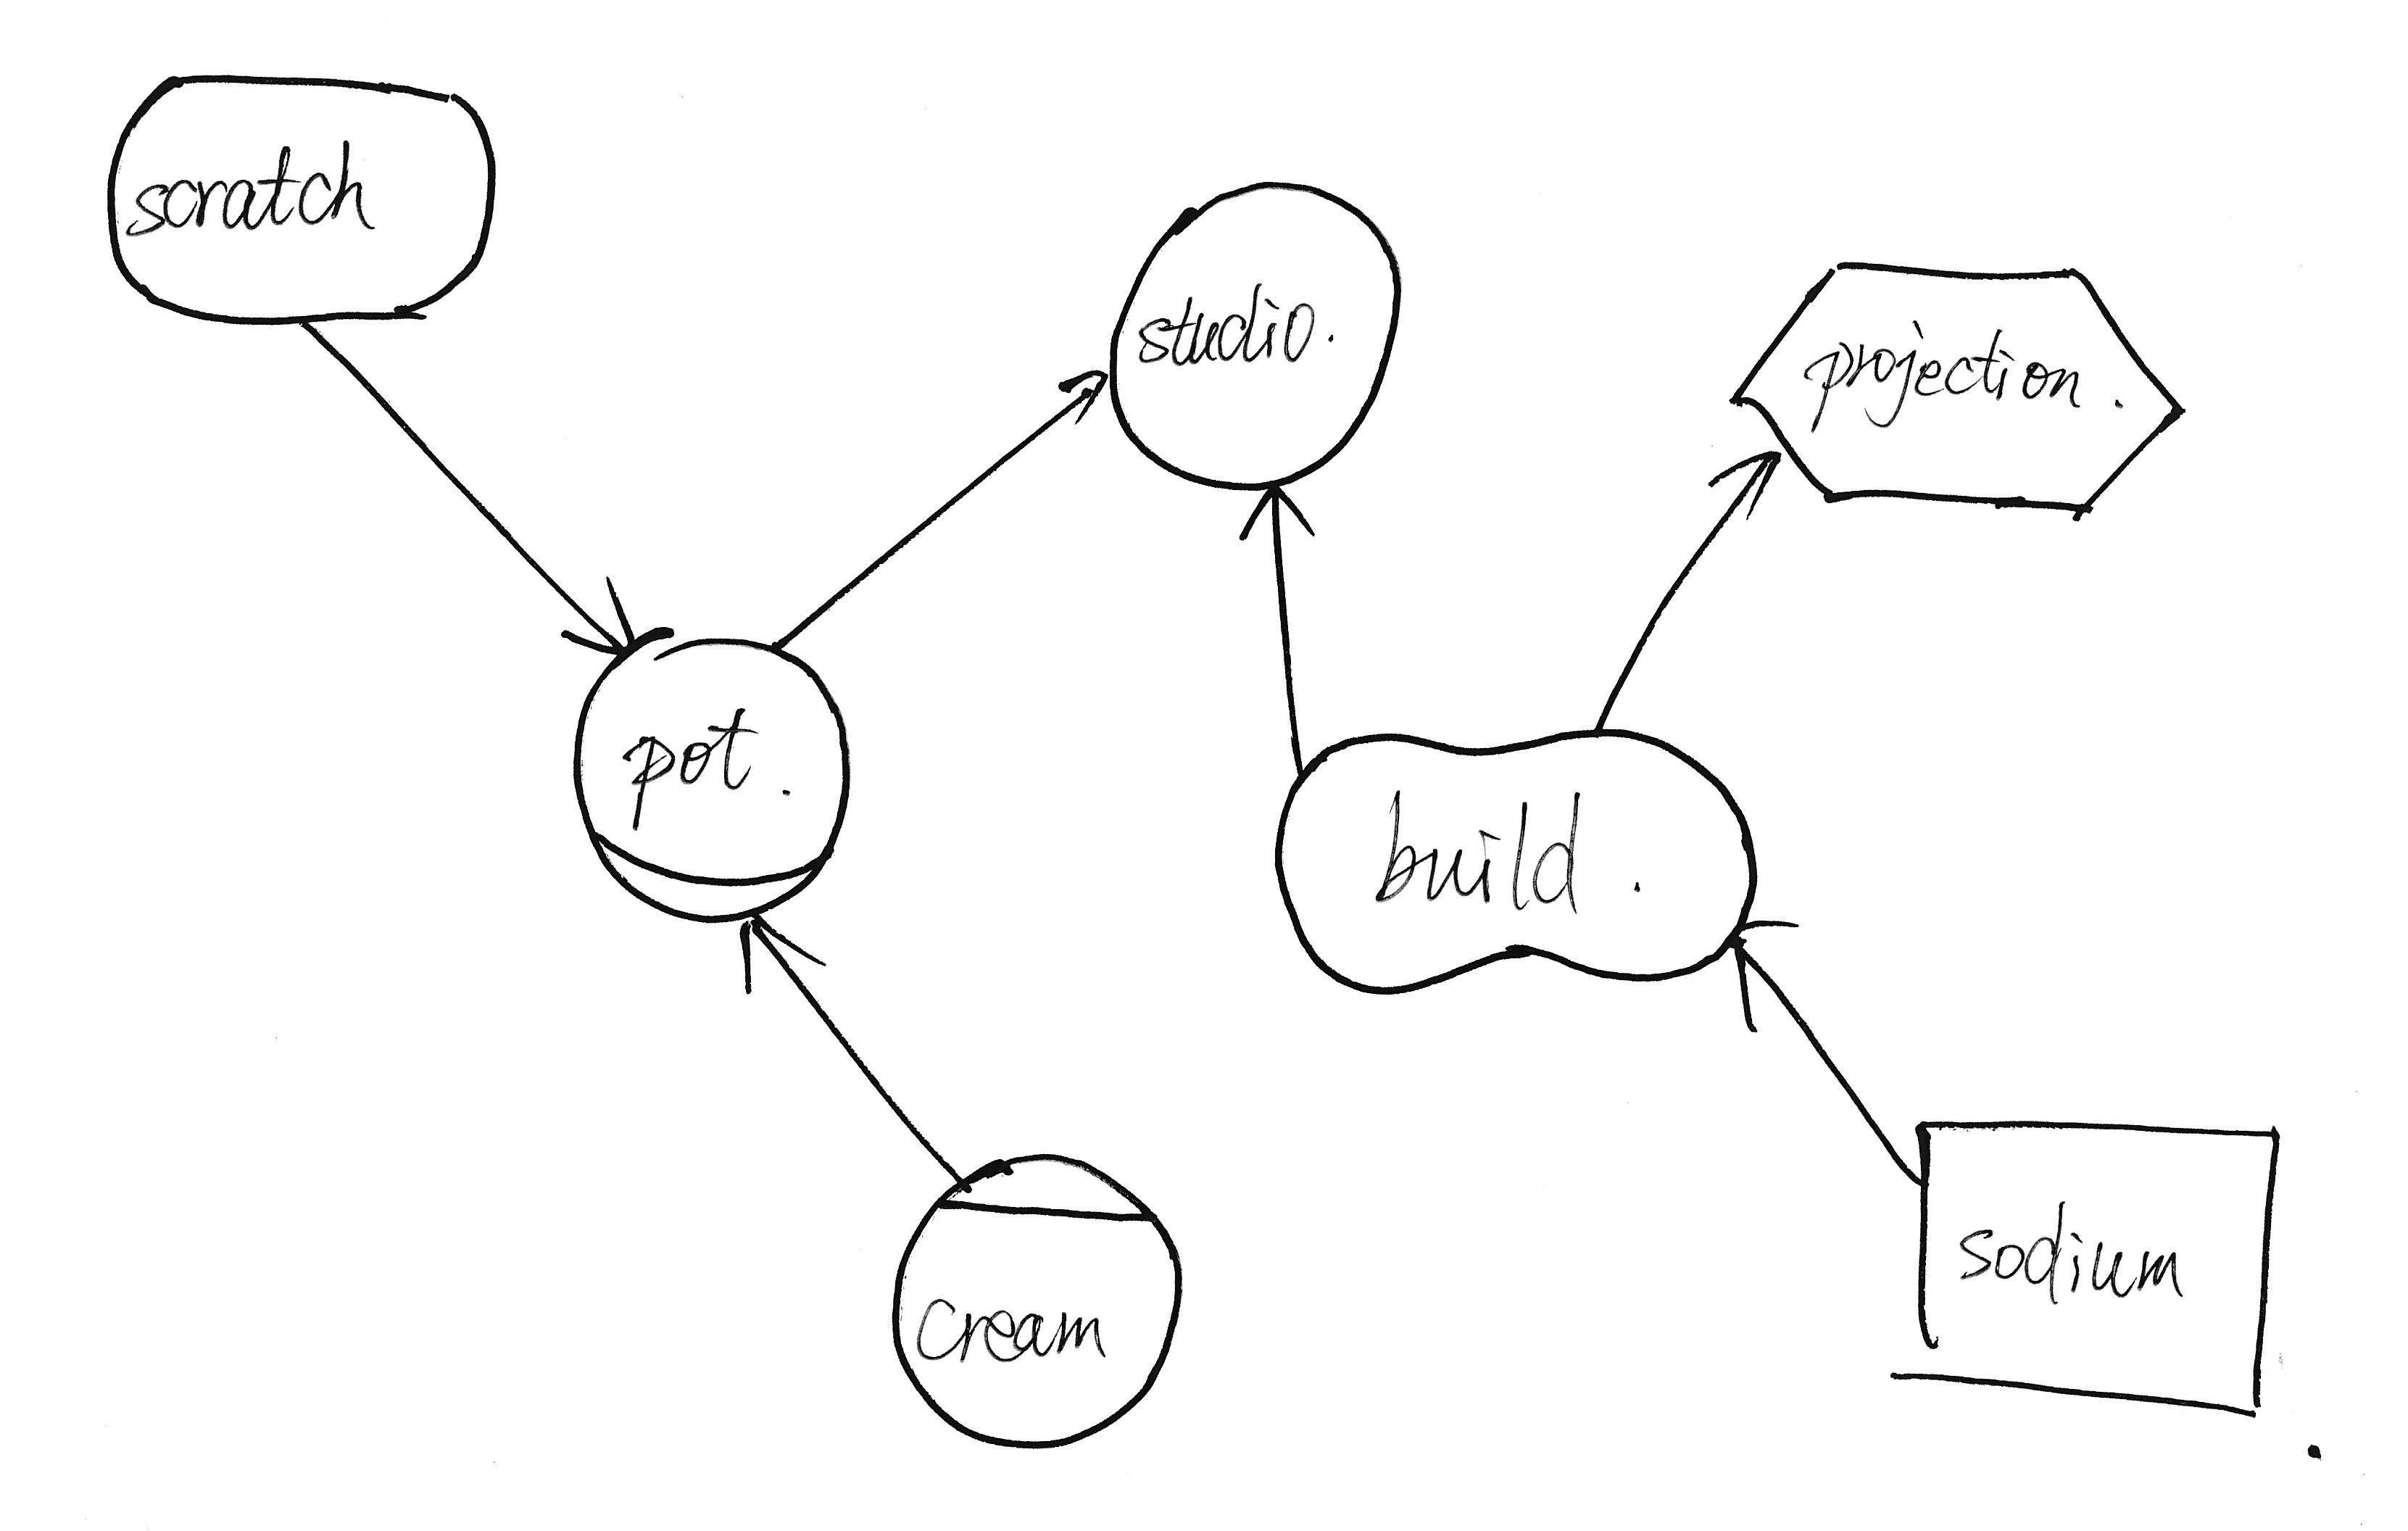actor: (1086, 151, 1416, 507)
agent: (869, 1127, 1202, 1463)
arrow: (1718, 901, 1813, 1045), (537, 555, 651, 665), (723, 901, 837, 1001), (1699, 432, 1806, 534), (1222, 471, 1329, 553), (1043, 339, 1122, 439)
goal: (82, 51, 511, 344)
quality: (1257, 706, 1773, 1015)
resource: (1876, 1090, 2299, 1445)
role: (556, 611, 872, 939)
task: (1713, 230, 2208, 541)
